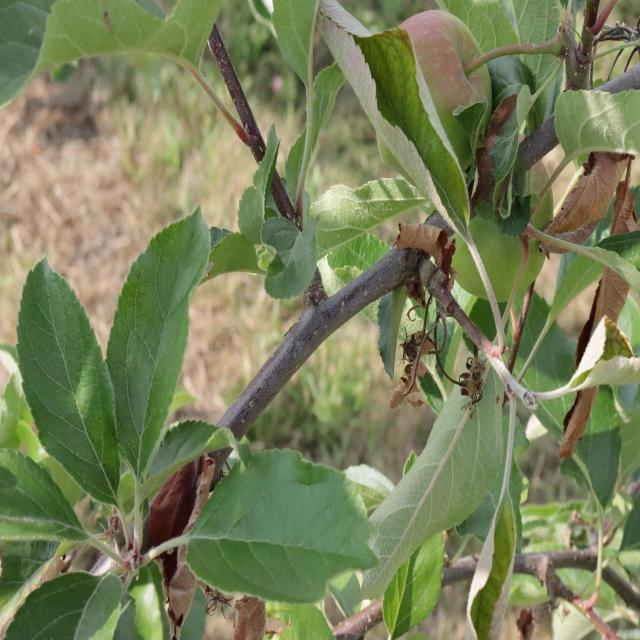-FireBlight-: (398, 219, 472, 402), (539, 145, 640, 242)
